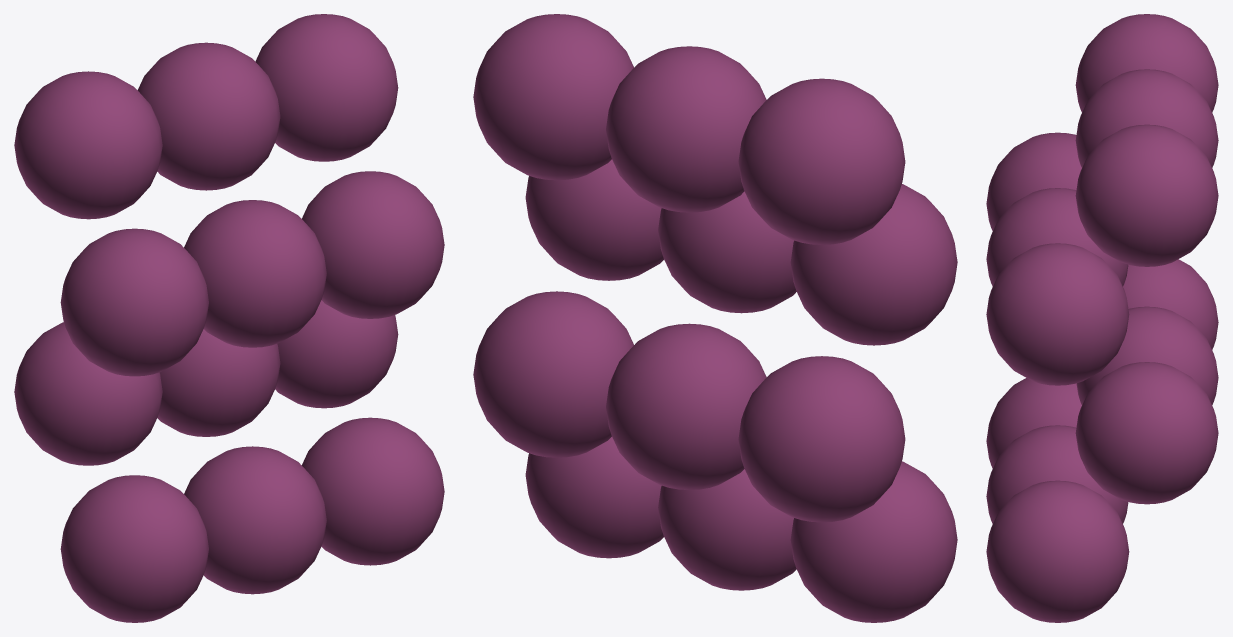
File: uvas.glb
The picture shows the model from 3 angles, left to right: view 1: azimuth 30°, elevation 25°; view 2: azimuth 150°, elevation 25°; view 3: azimuth 270°, elevation 25°; orthographic projection. The views are drawn at different scales.
Visible parts, largest first — view 1: Uva, Uva.009, Uva.003, Uva.011, Uva.001, Uva.002, Uva.004, Uva.005, Uva.010, Uva.006, Uva.008, Uva.007; view 2: Uva.006, Uva, Uva.001, Uva.002, Uva.008, Uva.007, Uva.003, Uva.009, Uva.005, Uva.010, Uva.004, Uva.011; view 3: Uva.005, Uva.008, Uva.002, Uva.011, Uva, Uva.001, Uva.010, Uva.007, Uva.004, Uva.003, Uva.006, Uva.009.
Boxes of the visible parts, box(x1,y1,x2,y2) form: Uva: box(14, 71, 162, 219); Uva.009: box(60, 475, 208, 622); Uva.003: box(60, 228, 208, 376); Uva.011: box(301, 417, 444, 565); Uva.001: box(137, 42, 280, 190); Uva.002: box(255, 14, 398, 161); Uva.004: box(184, 200, 326, 347); Uva.005: box(302, 171, 444, 318); Uva.010: box(184, 446, 326, 594); Uva.006: box(14, 322, 162, 465); Uva.008: box(275, 300, 398, 408); Uva.007: box(157, 329, 280, 436); Uva.006: box(738, 356, 905, 522); Uva: box(738, 78, 905, 244); Uva.001: box(606, 46, 766, 212); Uva.002: box(473, 14, 633, 180); Uva.008: box(473, 291, 633, 457); Uva.007: box(606, 323, 766, 489); Uva.003: box(790, 184, 957, 345); Uva.009: box(790, 461, 957, 622); Uva.005: box(525, 159, 663, 280); Uva.010: box(658, 469, 796, 590); Uva.004: box(658, 191, 796, 313); Uva.011: box(525, 437, 663, 558); Uva.005: box(986, 243, 1129, 385); Uva.008: box(1075, 362, 1218, 504); Uva.002: box(1075, 124, 1218, 266); Uva.011: box(986, 480, 1129, 622); Uva: box(1075, 14, 1218, 112); Uva.001: box(1075, 69, 1218, 167); Uva.010: box(986, 425, 1128, 523); Uva.007: box(1076, 306, 1218, 404); Uva.004: box(986, 188, 1128, 286); Uva.003: box(986, 132, 1081, 230); Uva.006: box(1123, 259, 1218, 349); Uva.009: box(986, 378, 1081, 468).
Size of the model in its own units: 0.68 by 0.9 by 0.39.
